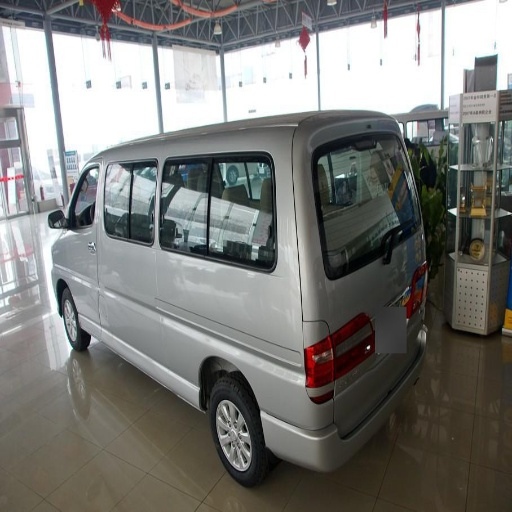back_bumper: (268, 361, 407, 469)
front_left_door: (71, 183, 103, 293)
trunk: (118, 240, 296, 414), (306, 301, 401, 396)
